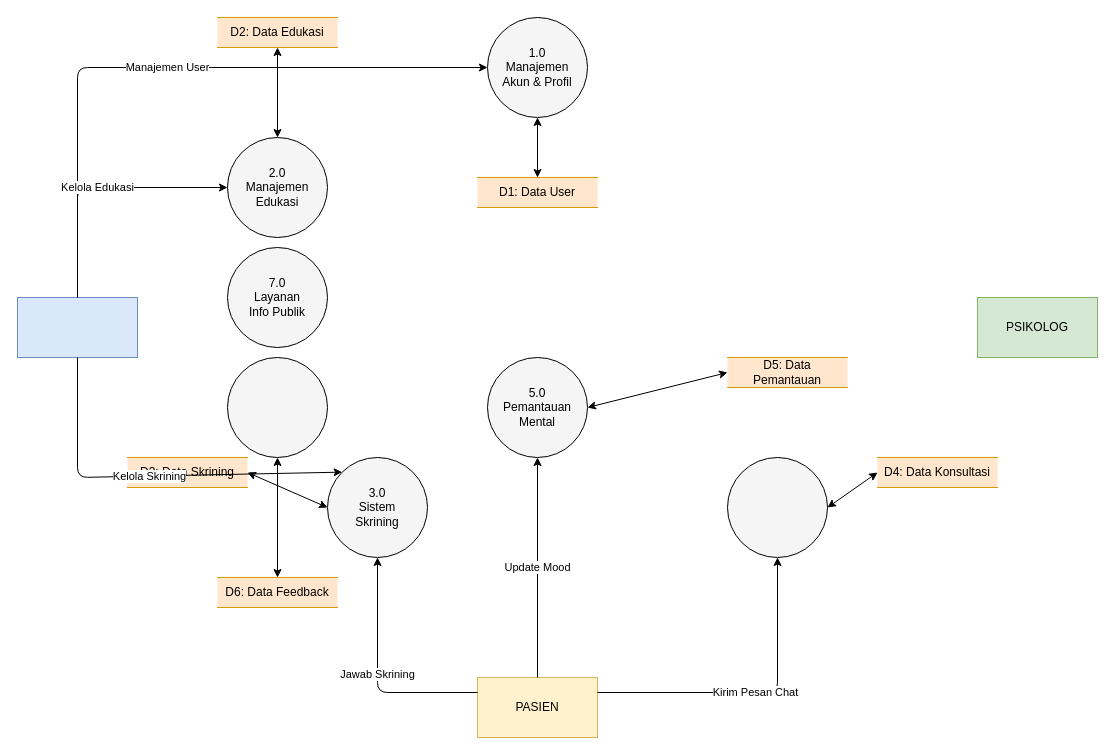
Some shapes in this 1115 by 755 pixel diagram are drawn without their labels. Each missing label, with the centre of its shape:
"4.0 Layanan Konsultasi" goes at point (777, 507).
"6.0 Laporan & Saran" goes at point (277, 407).
"ADMIN" goes at point (77, 327).
